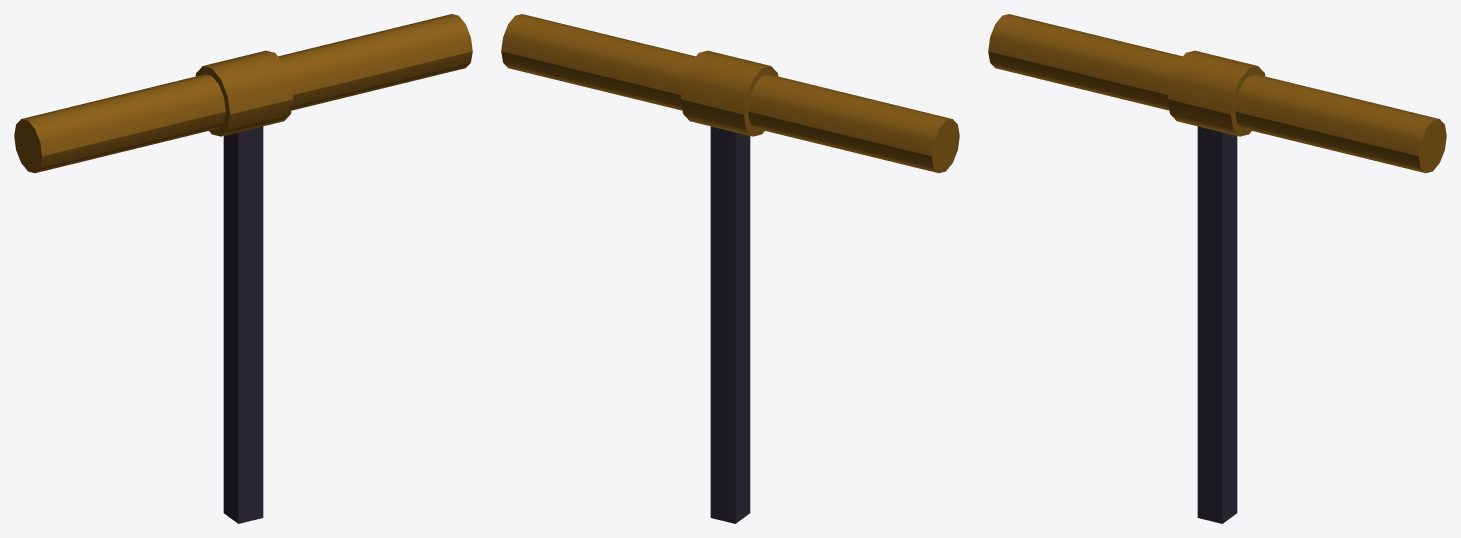
The model's file is plunger.000.obj.
3 renders of one model, left to right at view 1: azimuth 30°, elevation 25°; view 2: azimuth 150°, elevation 25°; view 3: azimuth 330°, elevation 25°, orthographic.
Parts seen in each view (by area): view 1: Plunger.001; view 2: Plunger.001; view 3: Plunger.001.
Boxes of the visible parts, bbox=[...] form: Plunger.001: bbox=[14, 14, 472, 523]; Plunger.001: bbox=[501, 14, 959, 523]; Plunger.001: bbox=[988, 14, 1446, 523].
Bounding box in the file's own units: 0.0549 × 0.0554 × 0.00806.
1 material, 1 textured.
